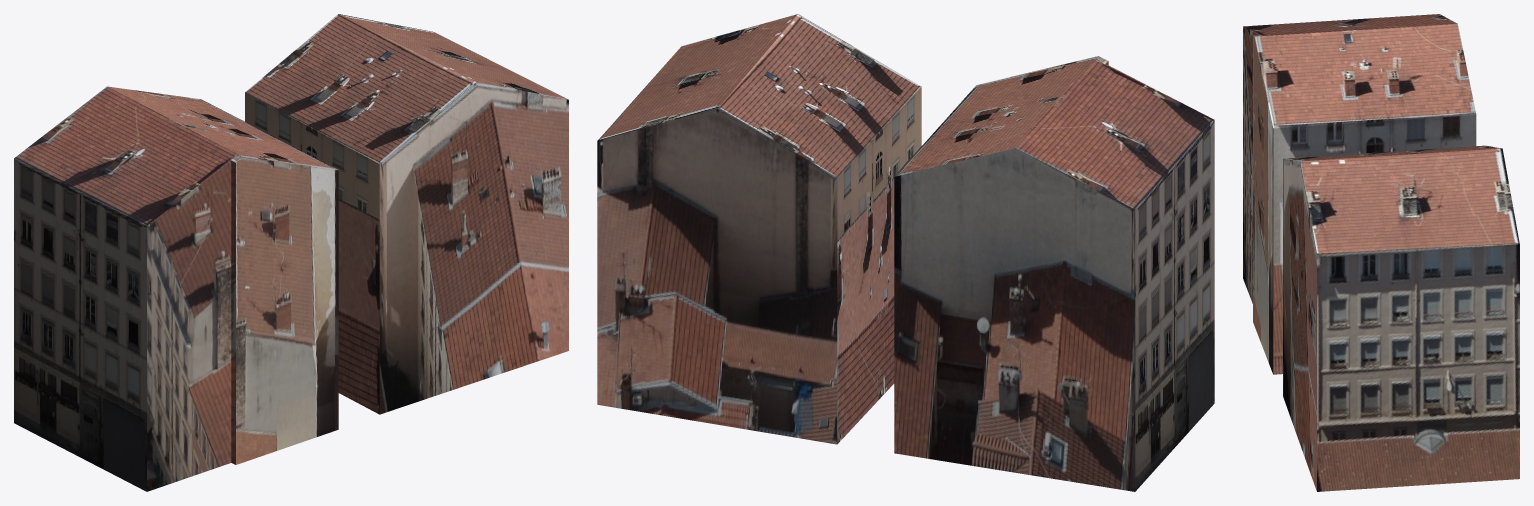
3 views of the same model, side by side, from view 1: azimuth 30°, elevation 25°; view 2: azimuth 150°, elevation 25°; view 3: azimuth 270°, elevation 25° (orthographic). The views are drawn at different scales.
Parts seen in each view (by area): view 1: Z_UP; view 2: Z_UP; view 3: Z_UP.
Part boxes in pixels (x1,y1,x2,y2): Z_UP: [14, 14, 568, 491]; Z_UP: [597, 14, 1214, 491]; Z_UP: [1243, 14, 1519, 491].
Bounding box in the file's own units: 40.36 × 24.03 × 20.82.
2 materials, 1 textured.
